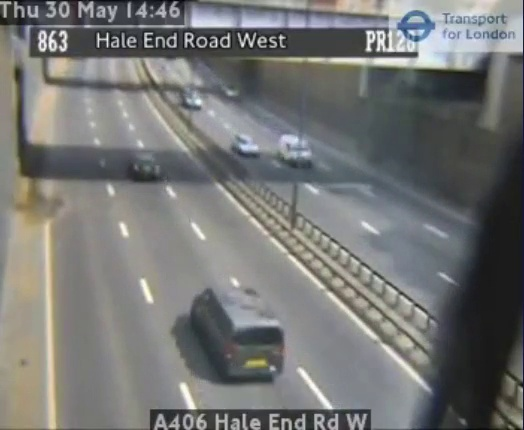car: (130, 151, 161, 179)
van: (193, 286, 286, 379)
